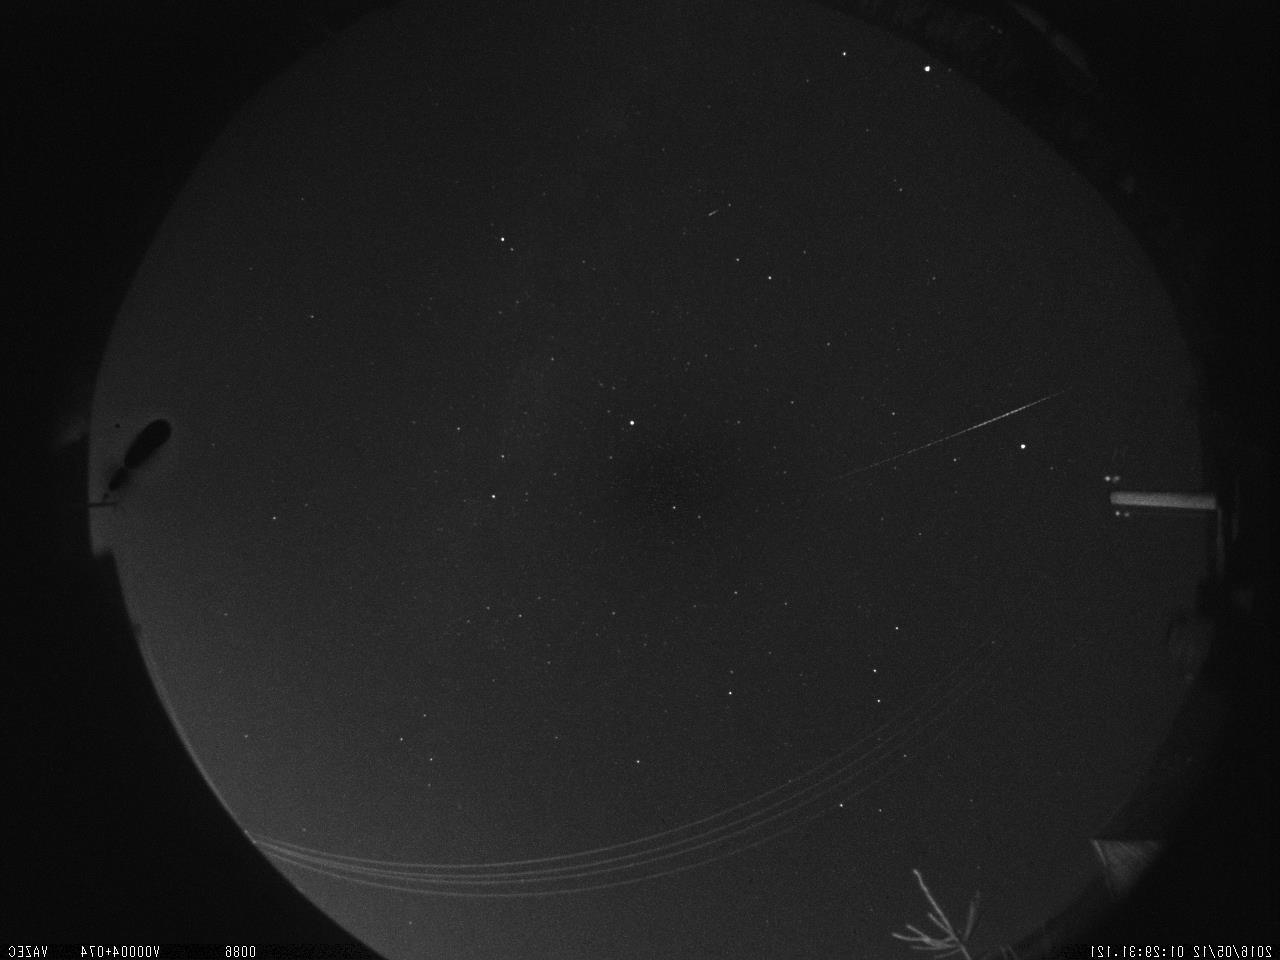meteor: (804, 352, 1061, 502)
